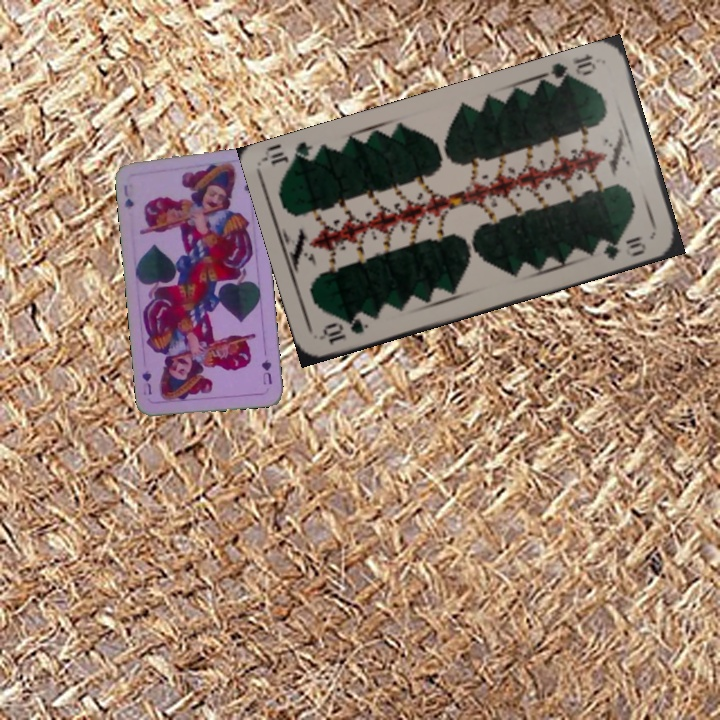G10: (542, 50, 599, 89), (319, 314, 371, 348)
GU: (257, 355, 274, 388), (120, 181, 136, 212)
